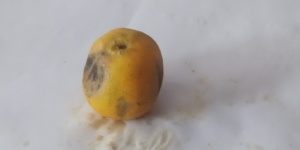BAD: (80, 26, 164, 125)
